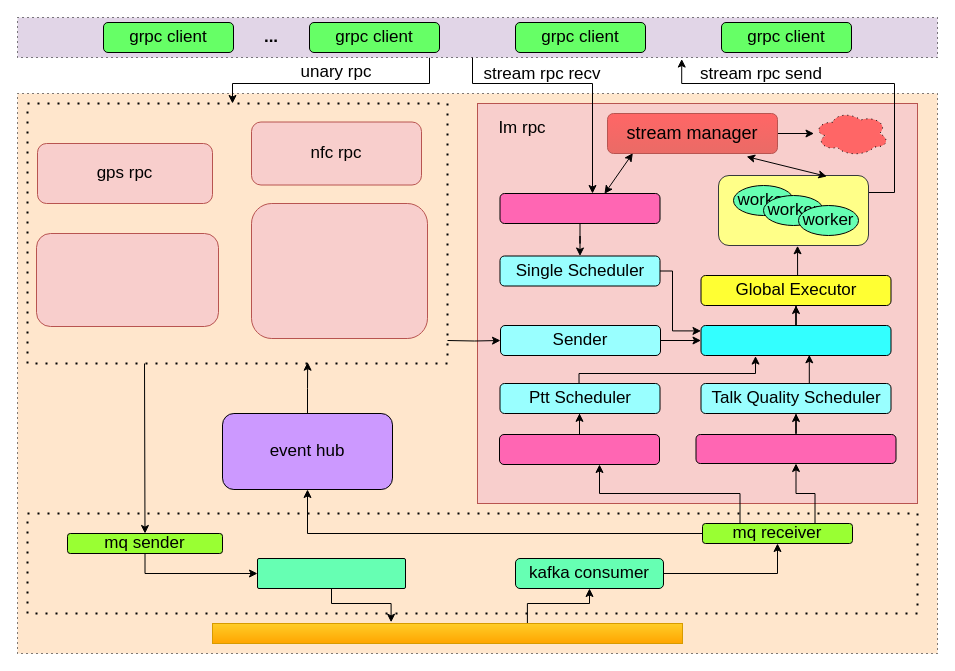
Image size: 955x671. Some labels were removed from this diagram. The shapes that lost their labels are listed below. From the top down, each one's centre as x and y in pixels, then its label:
[851,133]: redis
[579,208]: Single Dispatcher
[127,279]: app rpc
[339,270]: web rpc
[795,340]: Global Scheduler
[579,449]: Ptt Dispatcher
[795,449]: Talk Quality Dispatcher
[331,573]: kafka producer
[447,633]: kafka
